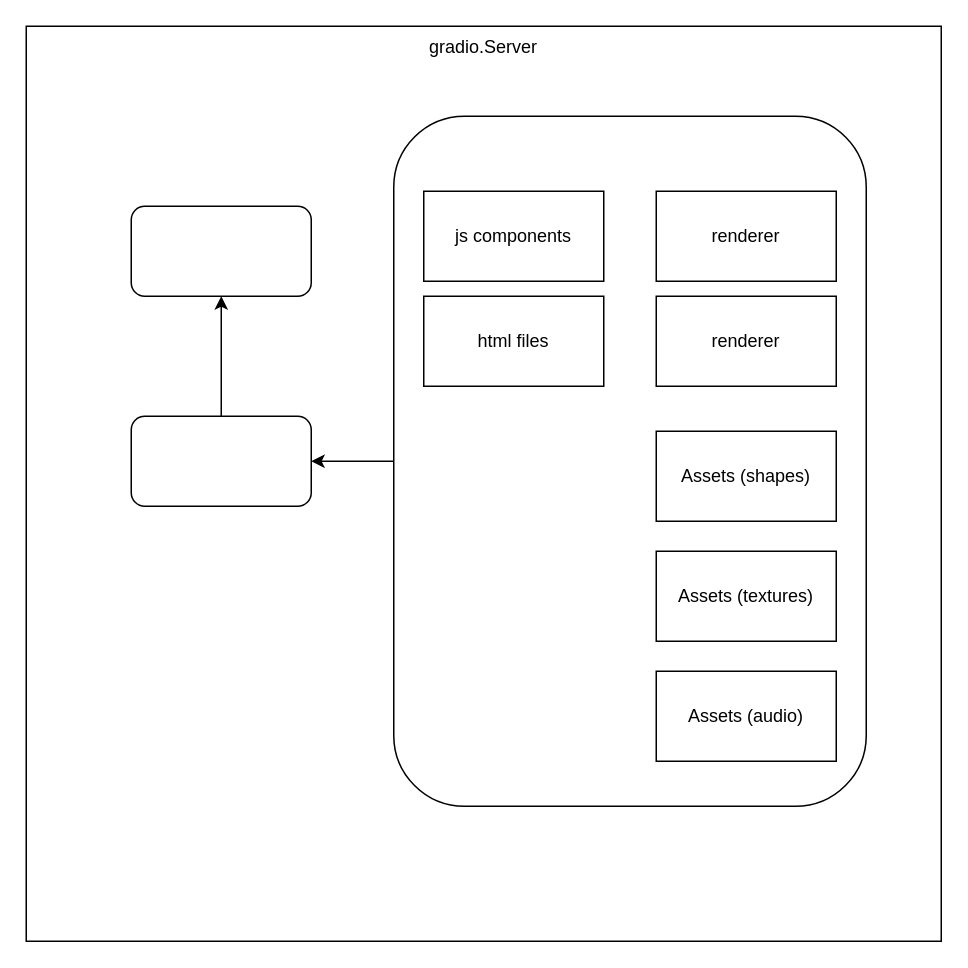
Some shapes in this 968 by 968 pixel diagram are drawn without their labels. Here are the shapes that lost their labels. From the top down, the box of each, then its label:
(130, 205, 311, 296): gr.Column/gr.Blocks
(130, 415, 311, 506): gr.HTML
(392, 115, 866, 806): Three.js Project
